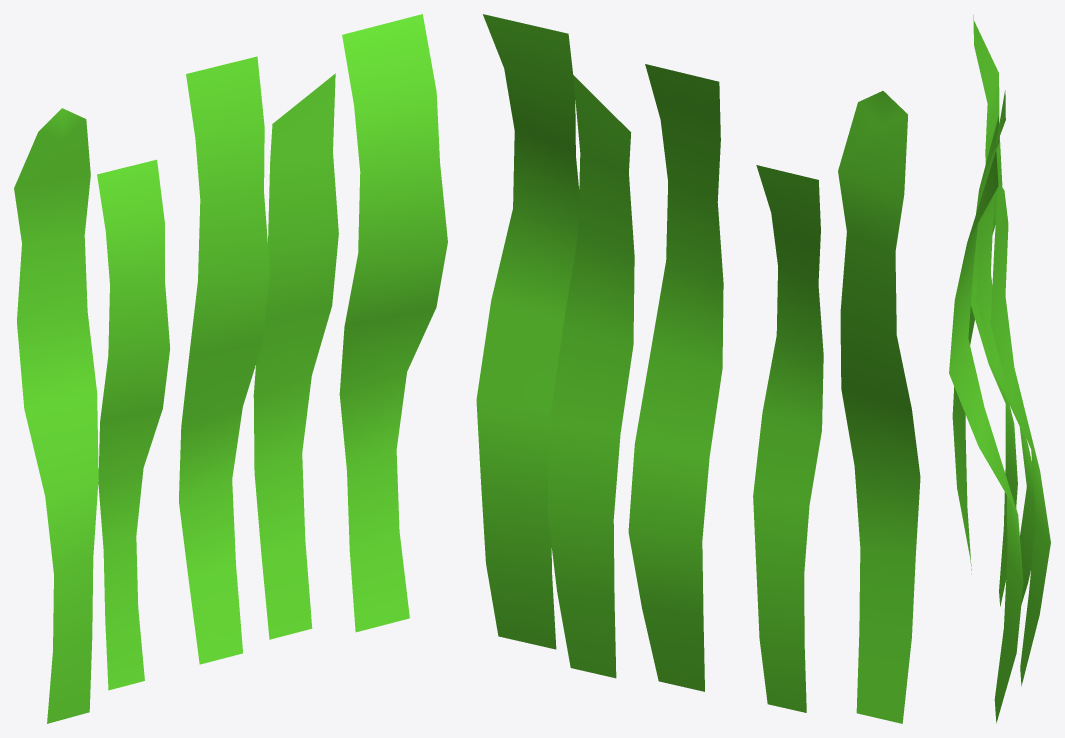
The model's file is SeaweedA.FBX.
The picture shows the model from 3 angles, left to right: view 1: azimuth 30°, elevation 25°; view 2: azimuth 150°, elevation 25°; view 3: azimuth 270°, elevation 25°; orthographic projection. The views are drawn at different scales.
Parts seen in each view (by area): view 1: Plane011, Plane001, Plane005, Plane010, Plane004, Plane014, Plane012, Plane015, Plane013, Plane016; view 2: Plane011, Plane001, Plane005, Plane010, Plane004, Plane014, Plane012, Plane015, Plane013, Plane016; view 3: Plane011, Plane010, Plane001, Plane005, Plane004, Plane014, Plane013, Plane012, Plane015, Plane016.
Boxes of the visible parts, x1,y1,x2,y2 form: Plane011: [339, 14, 447, 632]; Plane001: [179, 56, 269, 664]; Plane005: [14, 108, 98, 723]; Plane010: [253, 73, 338, 639]; Plane004: [97, 159, 170, 690]; Plane014: [341, 37, 446, 629]; Plane012: [180, 59, 269, 663]; Plane015: [15, 109, 98, 723]; Plane013: [255, 128, 338, 639]; Plane016: [98, 176, 167, 687]; Plane011: [476, 14, 579, 649]; Plane001: [628, 64, 723, 691]; Plane005: [838, 91, 920, 723]; Plane010: [547, 75, 634, 678]; Plane004: [753, 165, 823, 712]; Plane014: [477, 34, 578, 647]; Plane012: [630, 68, 723, 690]; Plane015: [839, 92, 919, 723]; Plane013: [548, 133, 634, 677]; Plane016: [755, 182, 823, 710]; Plane011: [949, 150, 1023, 722]; Plane010: [990, 182, 1050, 686]; Plane001: [976, 90, 1035, 604]; Plane005: [952, 15, 1002, 570]; Plane004: [971, 117, 1017, 606]; Plane014: [949, 245, 1022, 716]; Plane013: [991, 192, 1047, 682]; Plane012: [976, 96, 1034, 601]; Plane015: [953, 24, 999, 554]; Plane016: [972, 224, 1016, 600].
Bounding box in the file's own units: 182 × 258 × 43.
Materials: 1 (1 with a texture image).
